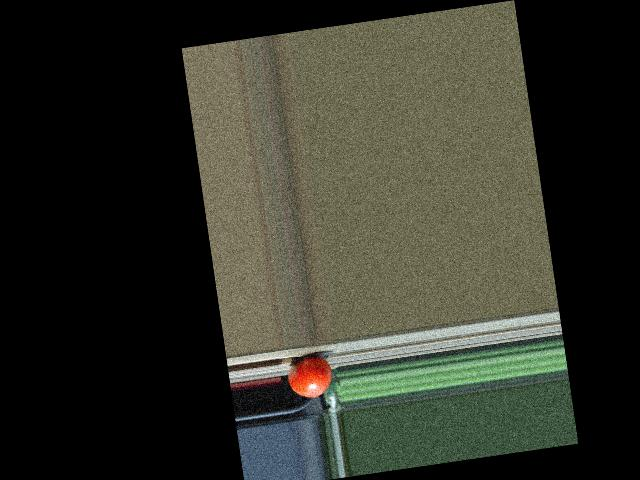tomato: (286, 354, 335, 400)
